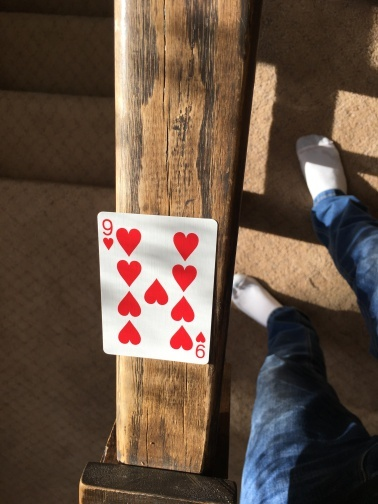nine: (99, 213, 215, 361)
